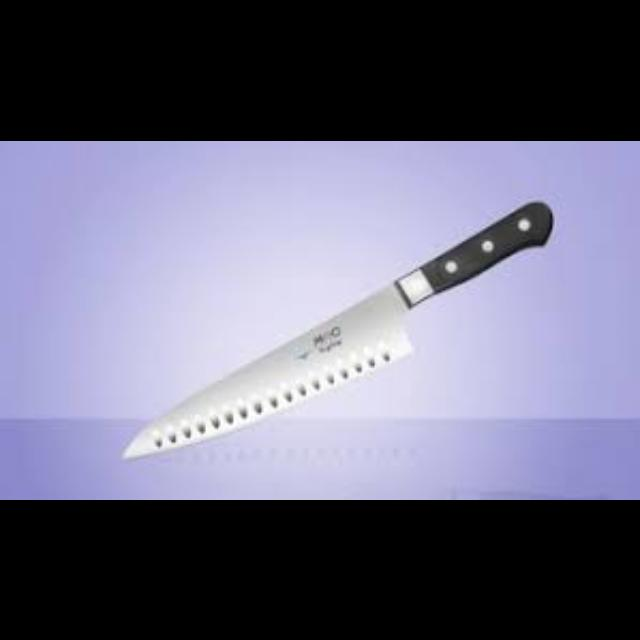knife: (120, 197, 554, 458)
